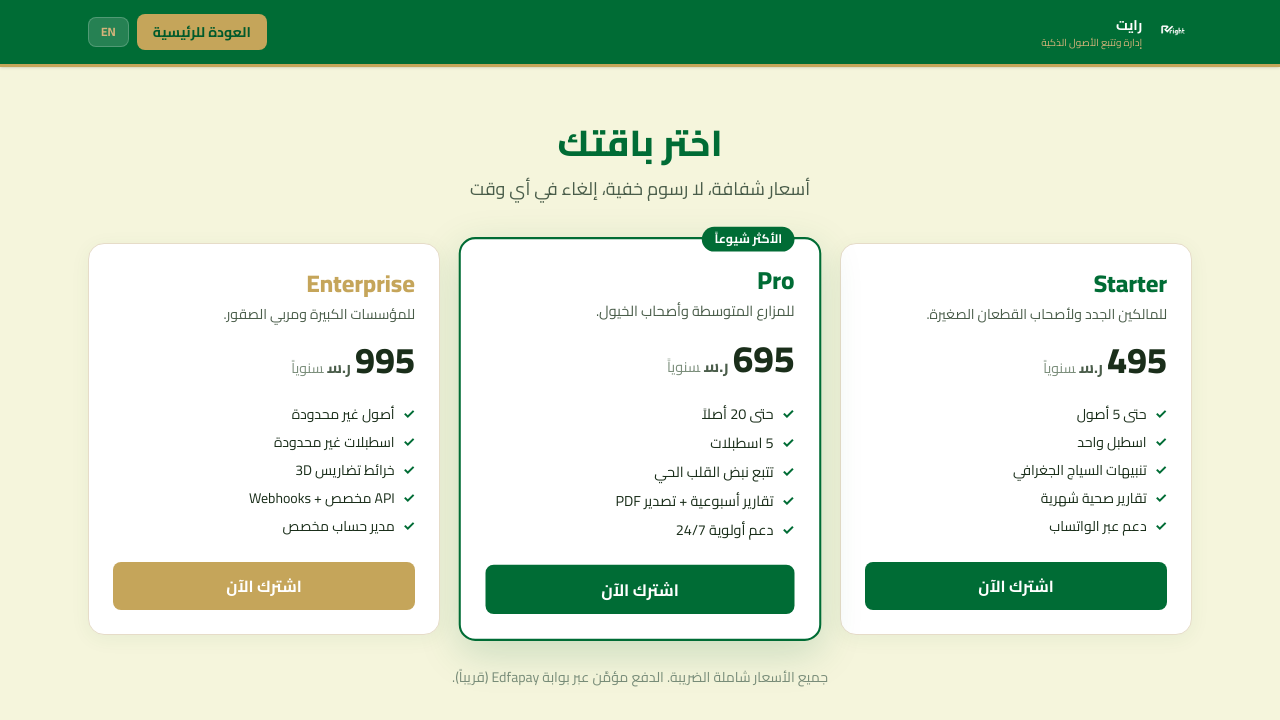
Test: SubscribePage — handleSubscribe (create-payment flow) › shows an error message when create-payment itself errors
The image size is (1280, 720).
Click the button "اشترك الآن" below "دعم عبر الواتساب".
click(1016, 586)  # box top-left (865, 562), bottom-right (1167, 610)
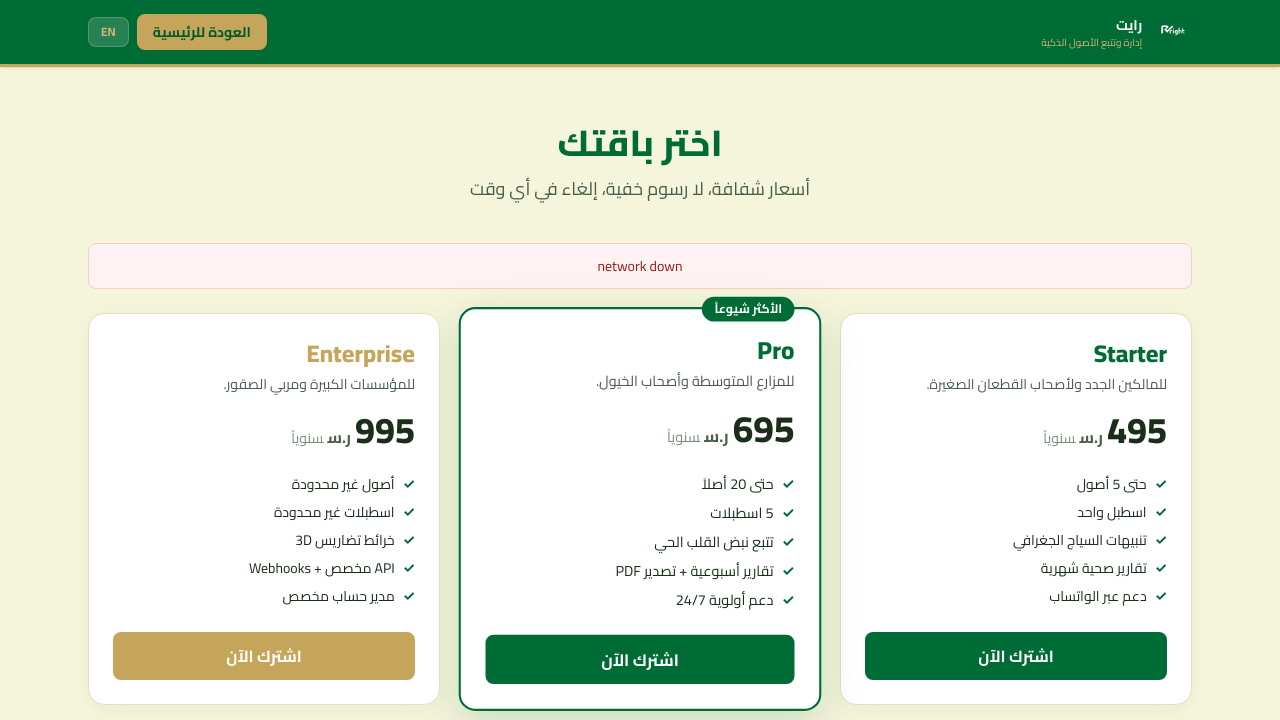
Expected: the text "network down" is shown, top-left (88, 243), bottom-right (1192, 289)
